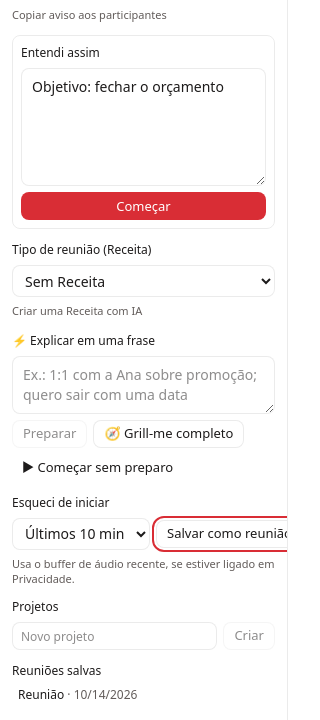
Test: meeting panel › 'esqueci de iniciar' saves the last minutes as a meeting; saved meetings can be read
The image size is (320, 720).
Earlier steps of the test are not shown.
Later steps or results of the test are not shown.
(page scrolled)
Click the button "Reunião · 10/14/2026": click(41, 695) [12,682,275,708]
(page scrolled)
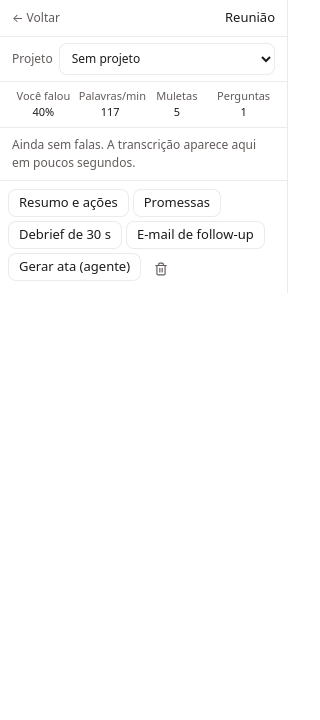
Expected: the button "Resumo e ações" is shown, [8,188,129,216]
